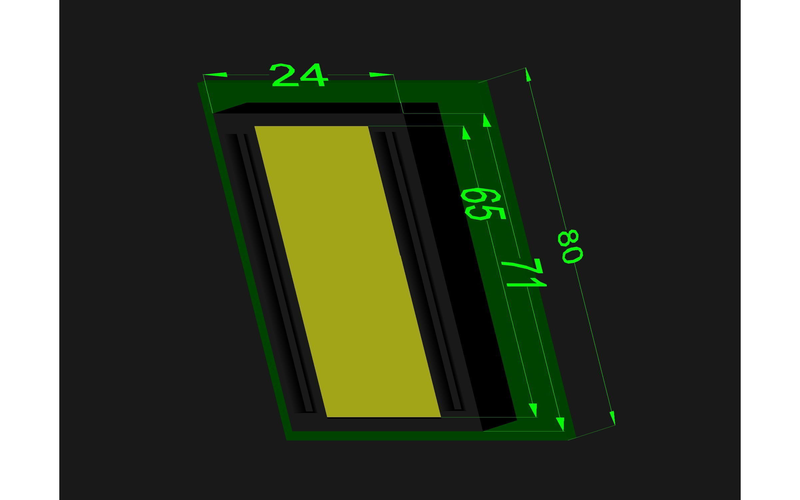LCD: (205, 98, 459, 443)
